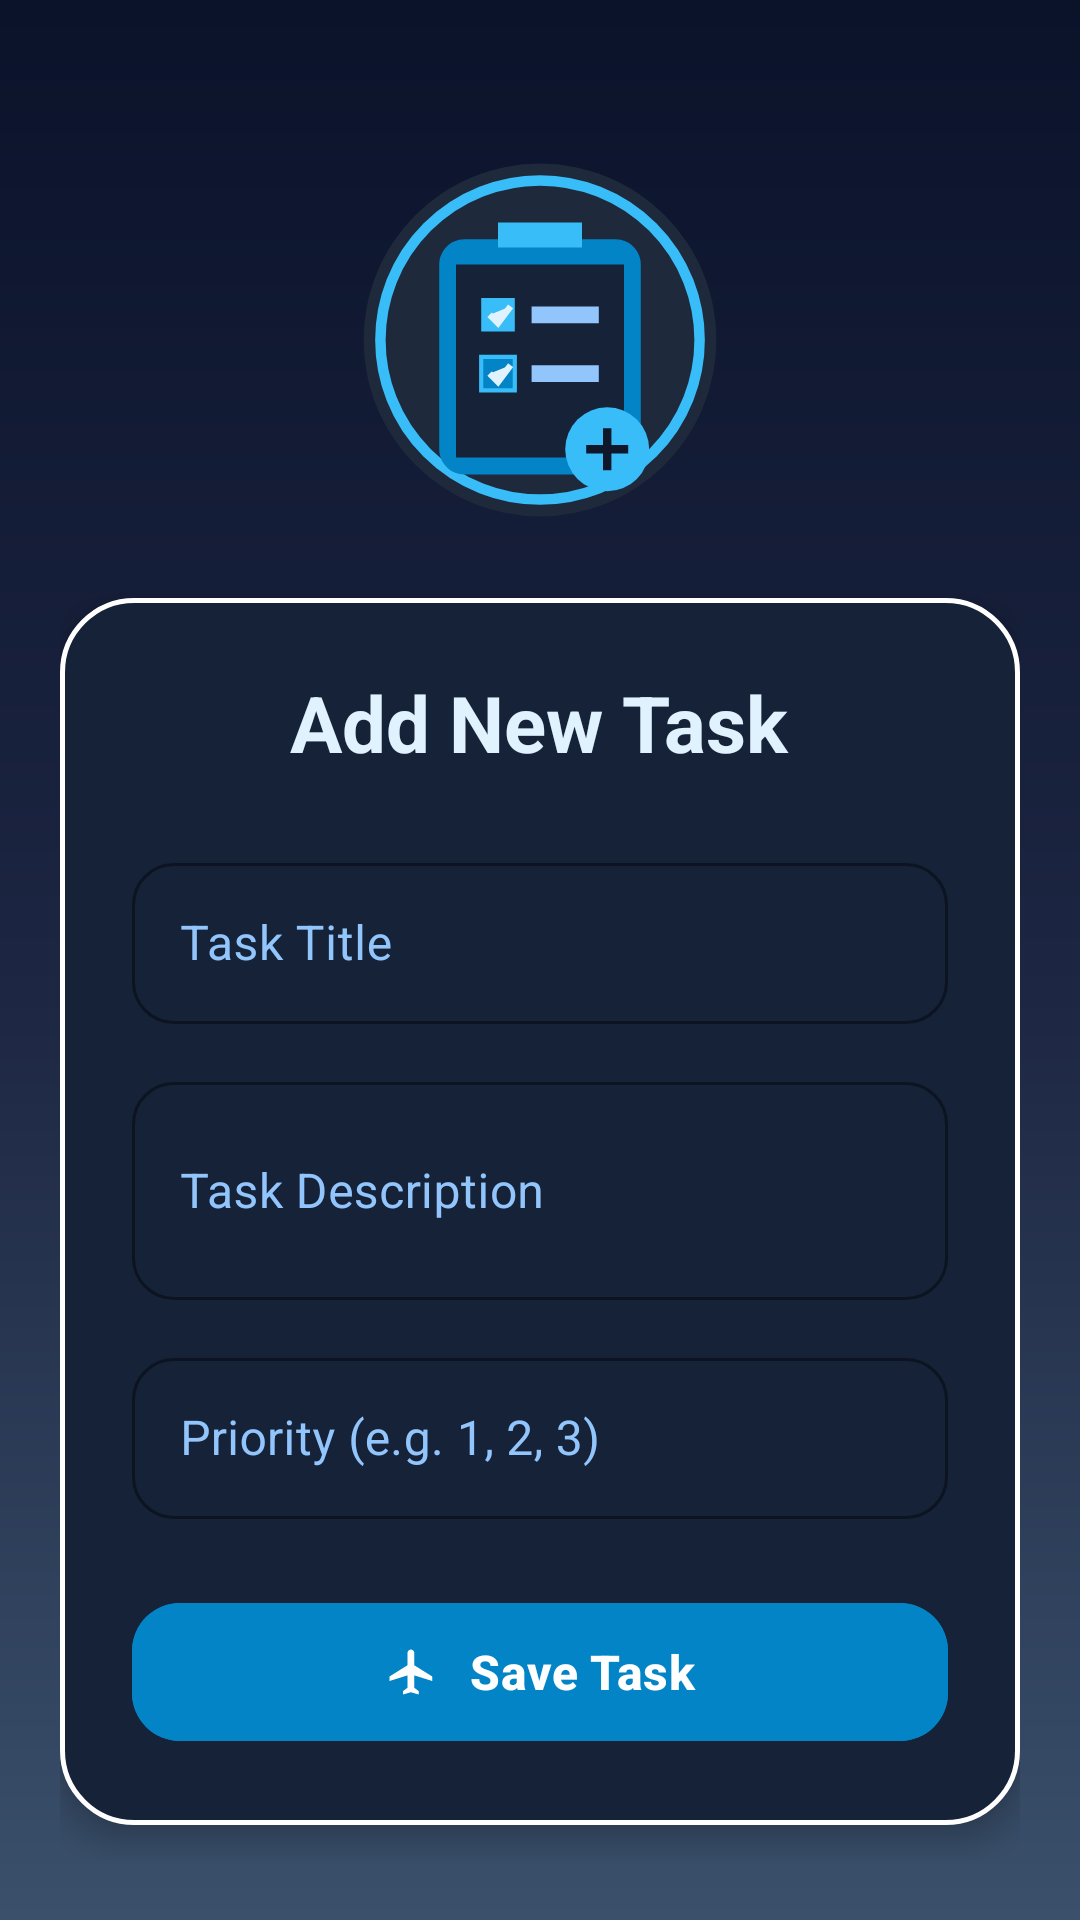

Icon click points for this 1080×1920 phone screenshot, format [x,y]:
Add Task Clipboard Illustration: [540,340]
